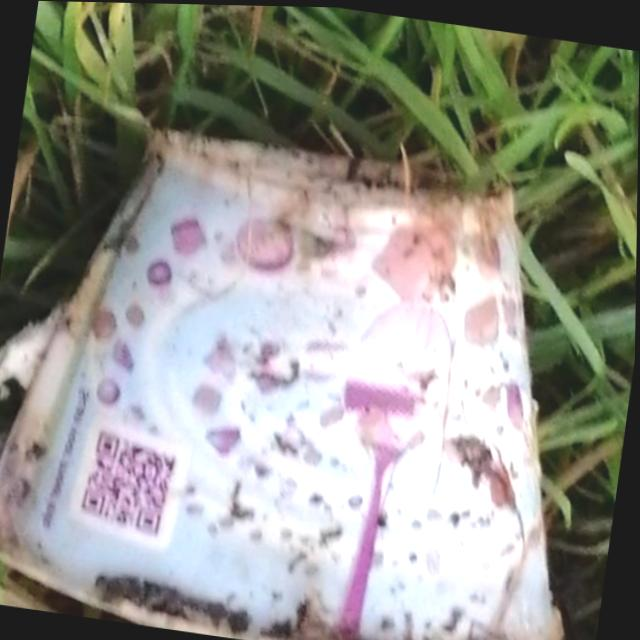Paper: (0, 101, 630, 640)
